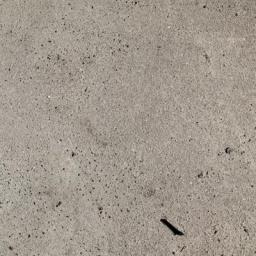FOD: (160, 216, 189, 240)
